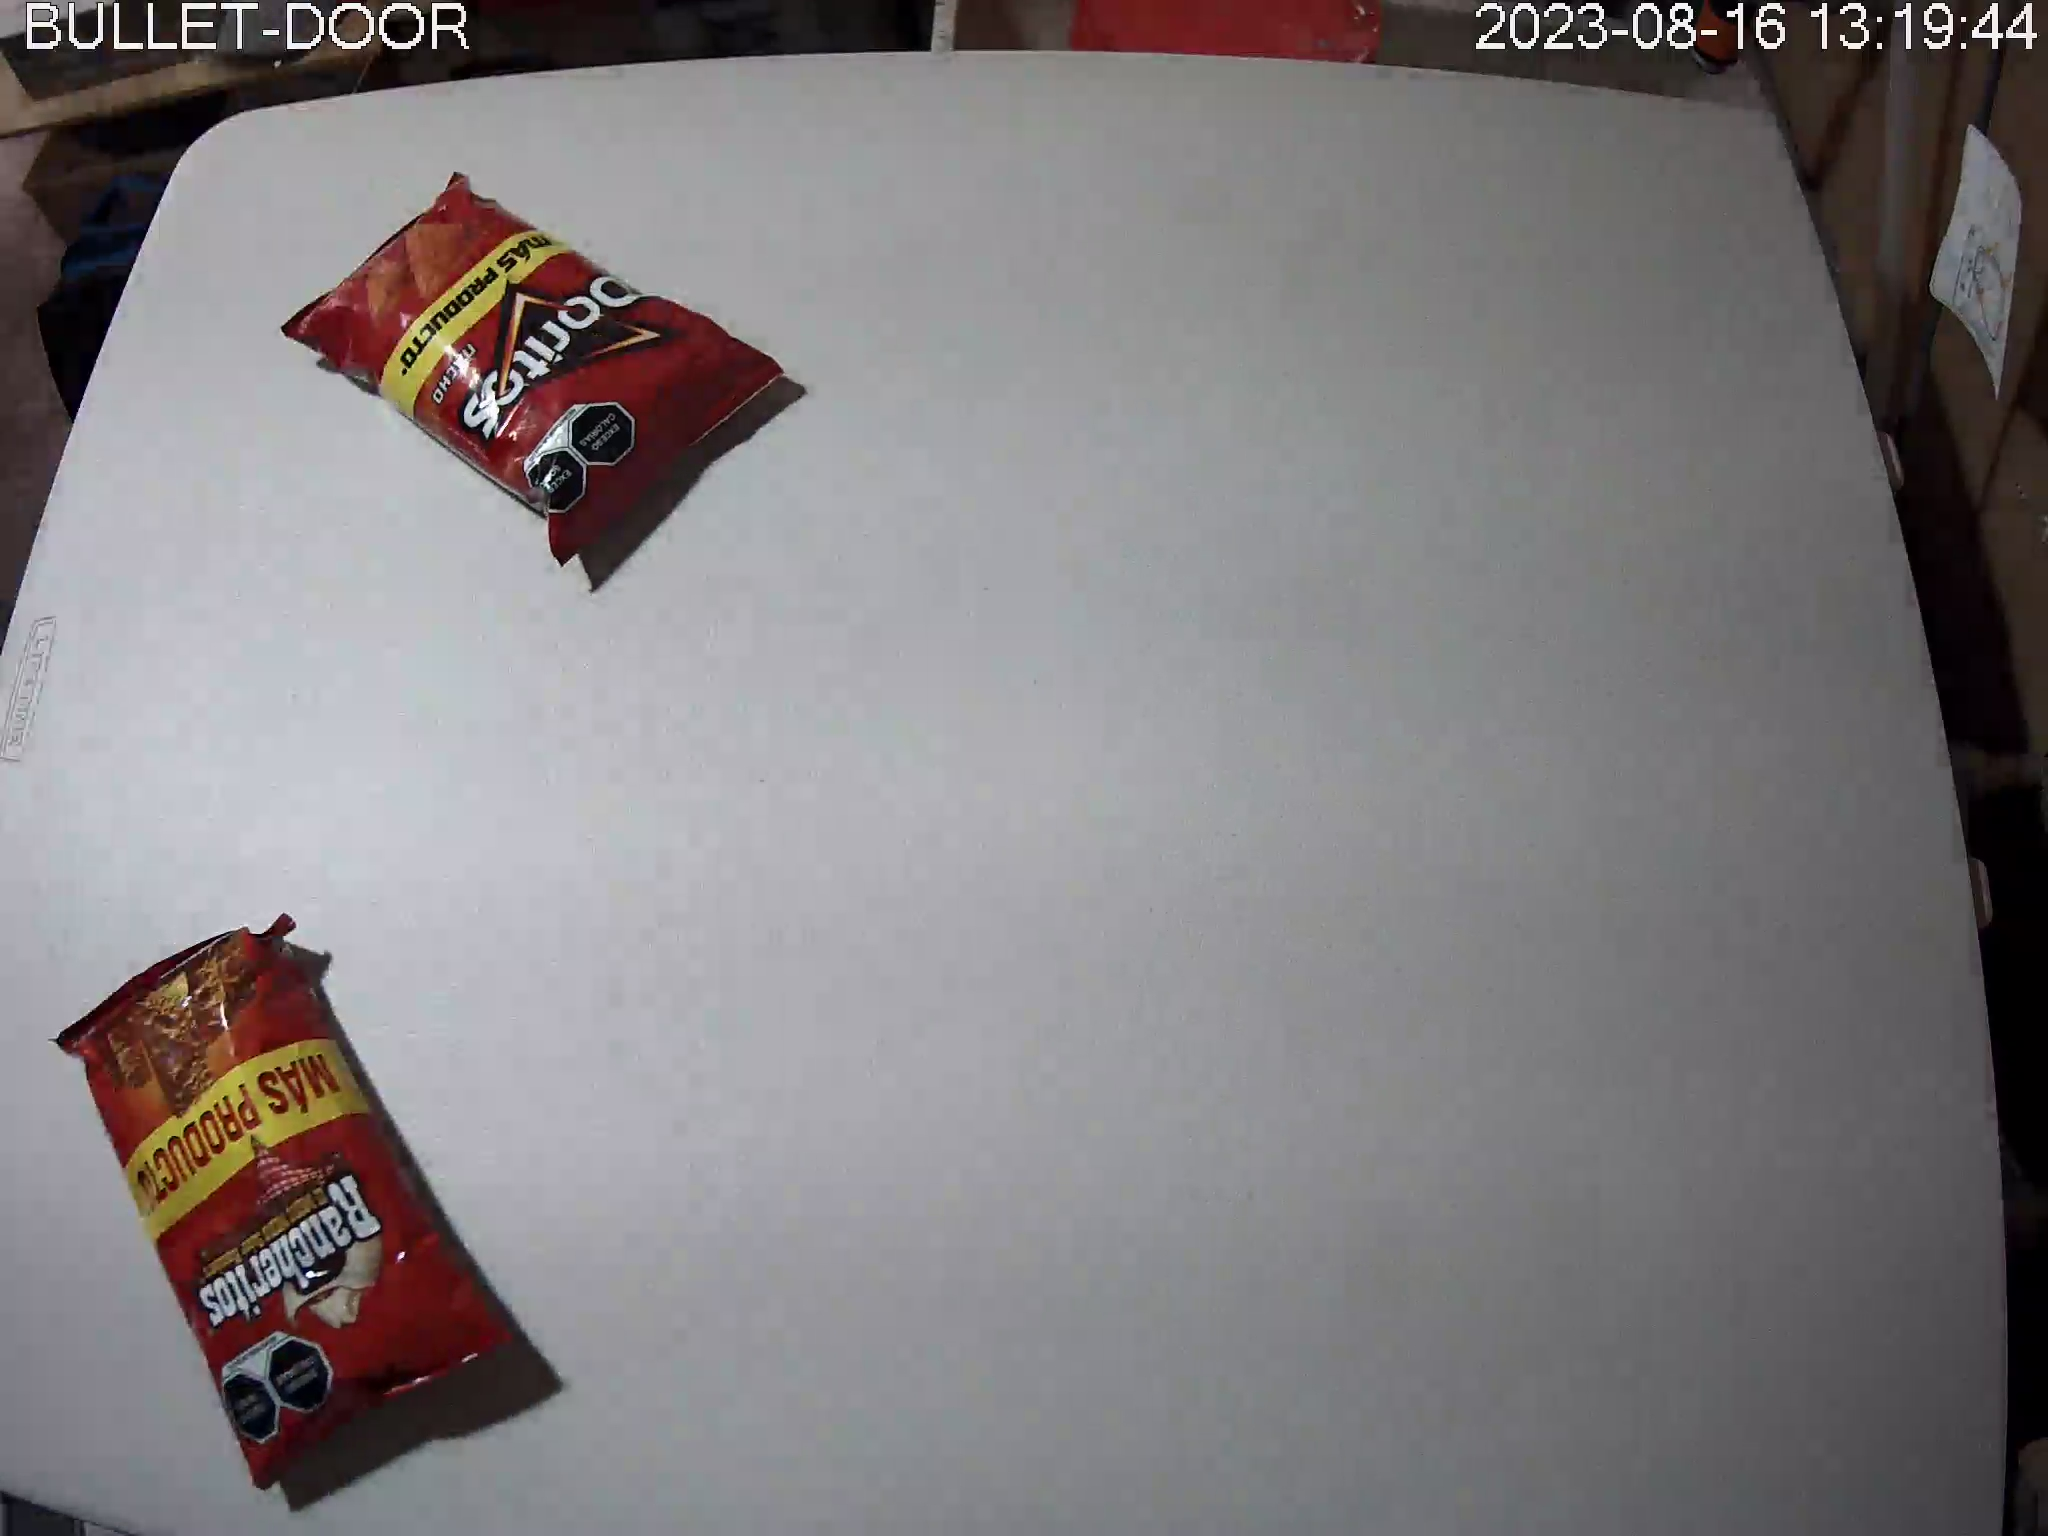DoritosN_61_F: (279, 171, 789, 566)
Rancheritos_58_F: (52, 910, 524, 1492)
